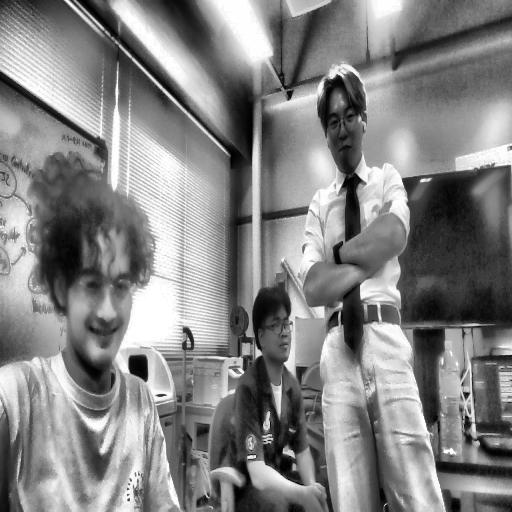Daifuku: (34, 156, 152, 380)
Not Daifuku: (313, 66, 371, 172), (255, 280, 296, 370)
